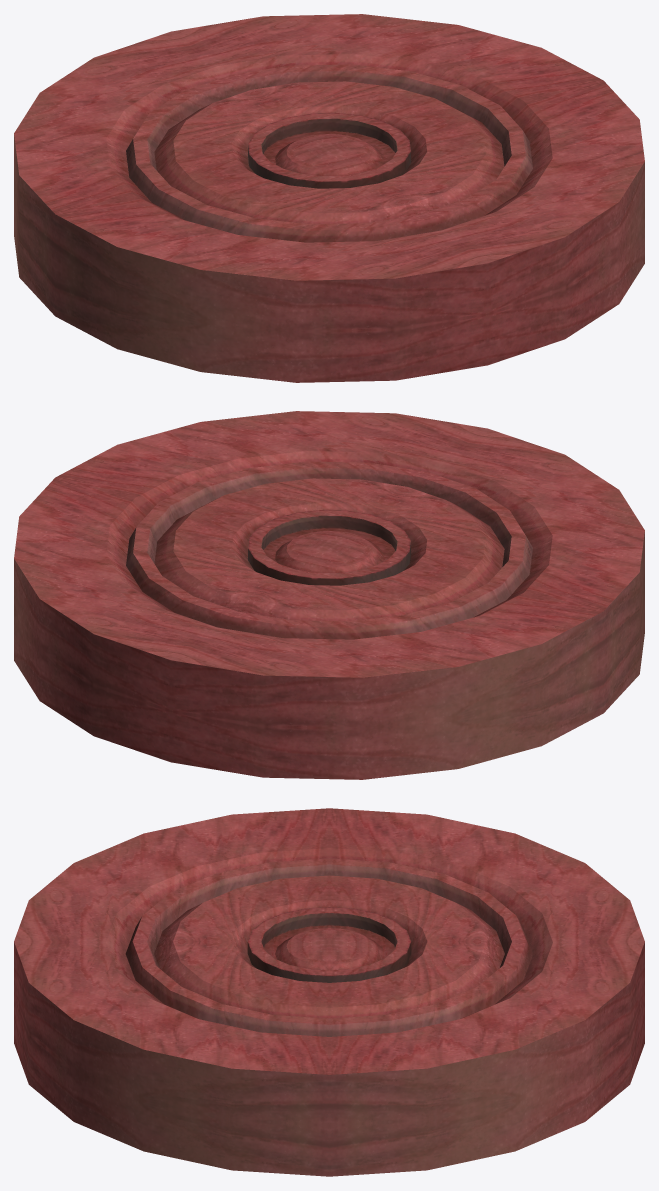
The model's file is carromplayerball.fbx.
3 renders of one model, top to bottom at view 1: azimuth 30°, elevation 25°; view 2: azimuth 150°, elevation 25°; view 3: azimuth 270°, elevation 25°, orthographic.
Parts seen in each view (by area): view 1: Object_7; view 2: Object_7; view 3: Object_7.
Boxes of the visible parts, x1,y1,x2,y2 form: Object_7: (14,14,644,382); Object_7: (14,411,644,779); Object_7: (14,808,644,1176).
Bounding box in the file's own units: 18.36 × 3.27 × 18.36.
1 material, 1 textured.
